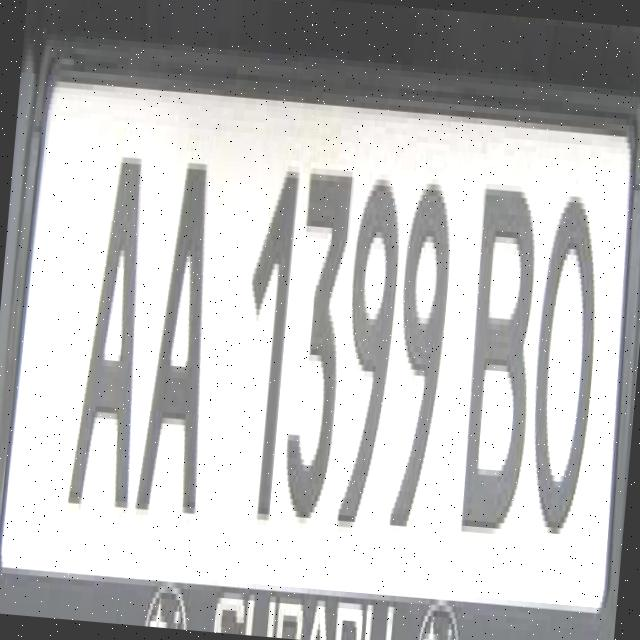Autre: (0, 87, 639, 597)
